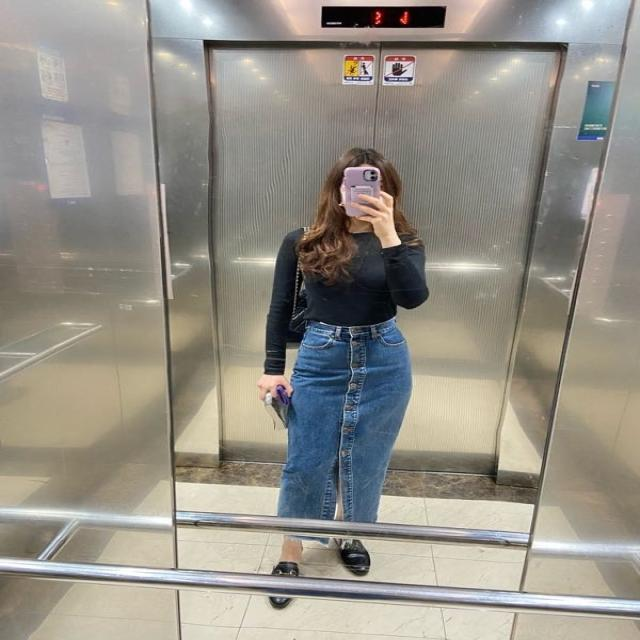longsleeve: (262, 214, 427, 376)
skirt: (274, 320, 410, 528)
